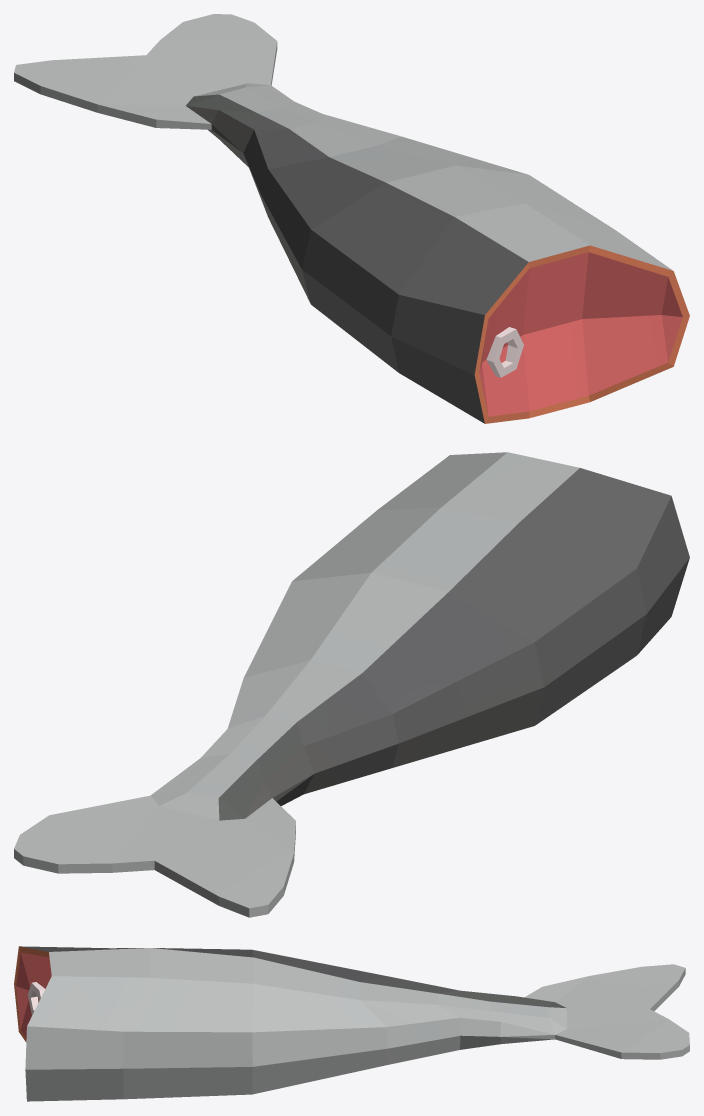
The model's file is fish.glb.
The picture shows the model from 3 angles, top to bottom: view 1: azimuth 30°, elevation 25°; view 2: azimuth 150°, elevation 25°; view 3: azimuth 270°, elevation 25°; orthographic projection. The views are drawn at different scales.
Bounding box in the file's own units: 0.0974 × 0.0555 × 0.2751.
Materials: 1 (1 with a texture image).
